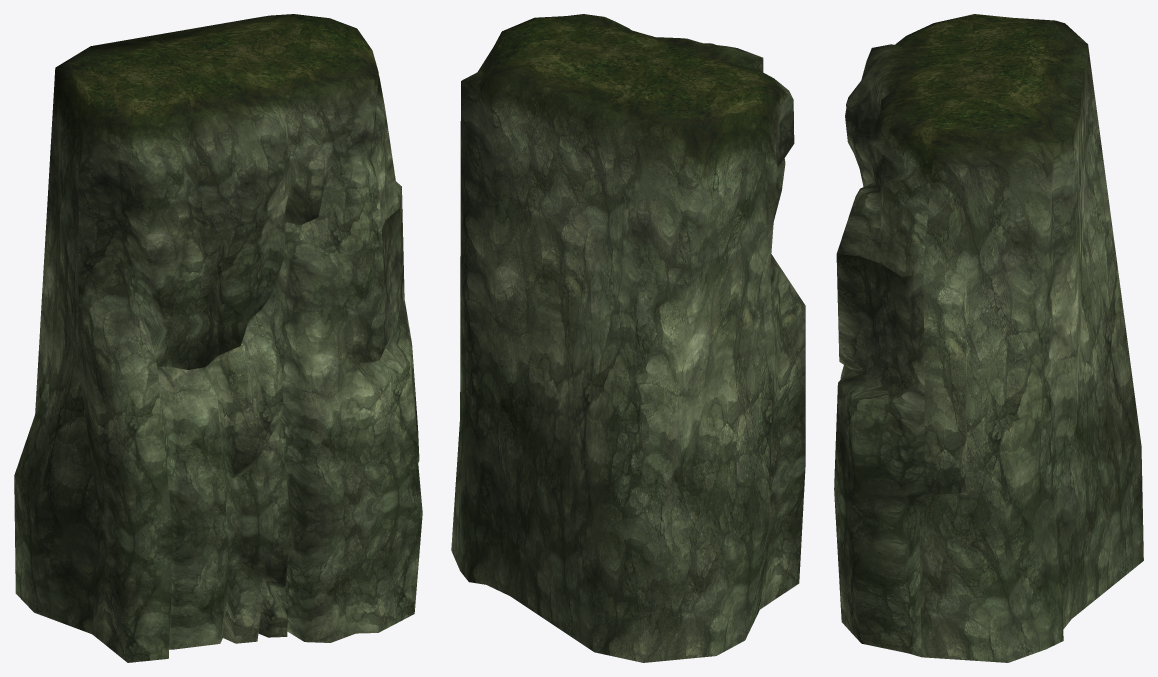
File: s7_fightpve_shitou03_uv.FBX
3 views of the same model, side by side, from view 1: azimuth 30°, elevation 25°; view 2: azimuth 150°, elevation 25°; view 3: azimuth 270°, elevation 25° (orthographic). The views are drawn at different scales.
Visible parts, largest first — view 1: 01; view 2: 01; view 3: 01.
Boxes of the visible parts, bbox=[...] form: 01: bbox=[14, 14, 422, 662]; 01: bbox=[451, 14, 805, 662]; 01: bbox=[834, 14, 1143, 662].
Size of the model in its own units: 16.26 by 25.21 by 13.61.
